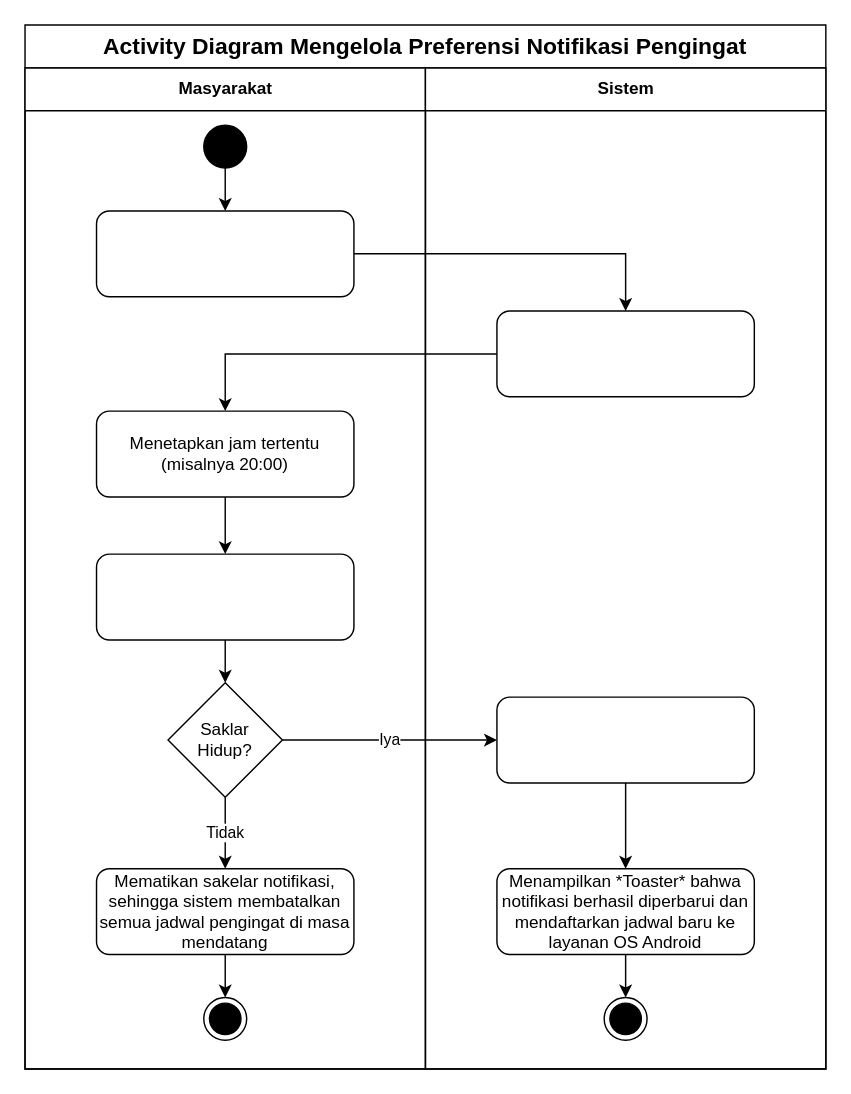
Some shapes in this 851 by 1094 pixel diagram are drawn without their labels. The centre of each missing label's shape, as x and y in pixels:
"Membuka antarmuka Pengingat Harian pada aplikasi" goes at (x=224, y=253).
"Memunculkan antarmuka untuk menentukan waktu pengingat" goes at (x=624, y=353).
"Mencatat preferensi tersebut ke dalam secure storage secara lokal" goes at (x=624, y=739).
"Menekan tombol simpan atau menyalakan sakelar (switch) pengingat" goes at (x=224, y=596).
